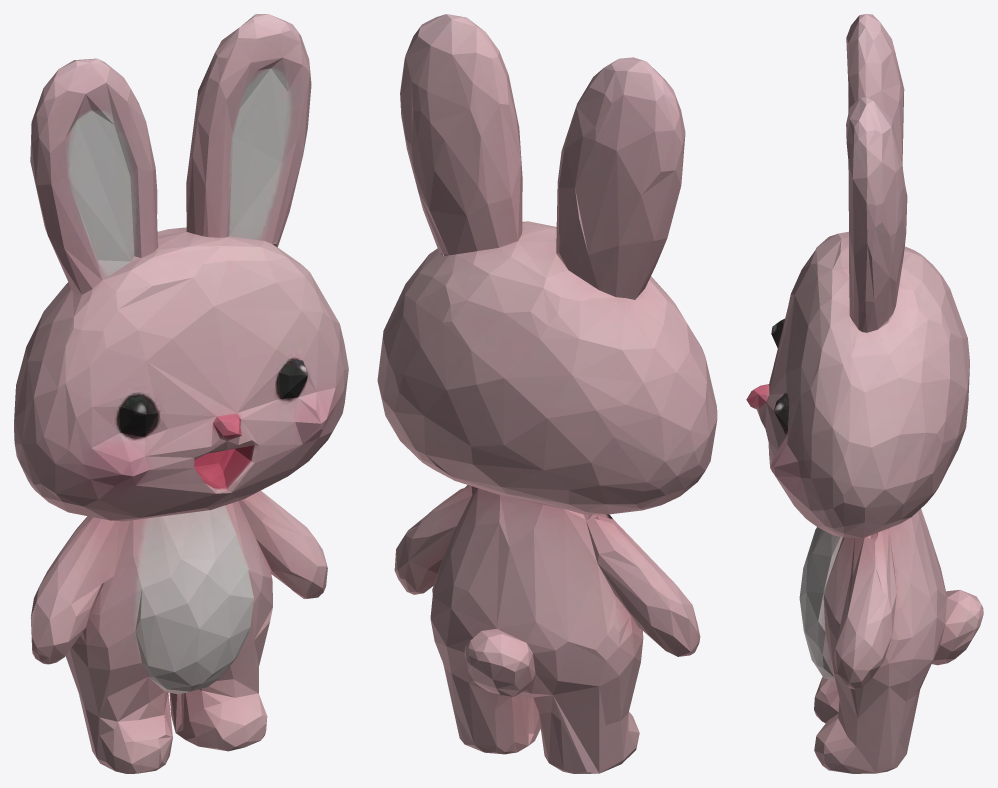
Rendered from yumi.glb.
3 renders of one model, left to right at view 1: azimuth 30°, elevation 25°; view 2: azimuth 150°, elevation 25°; view 3: azimuth 270°, elevation 25°, orthographic. The views are drawn at different scales.
Visible parts, largest first — view 1: geometry_0; view 2: geometry_0; view 3: geometry_0.
Boxes of the visible parts, box(x1,y1,x2,y2) form: geometry_0: box(14, 14, 348, 773); geometry_0: box(377, 14, 717, 773); geometry_0: box(746, 14, 983, 773).
Size of the model in its own units: 0.4747 by 0.9985 by 0.3161.
1 material, 1 textured.
